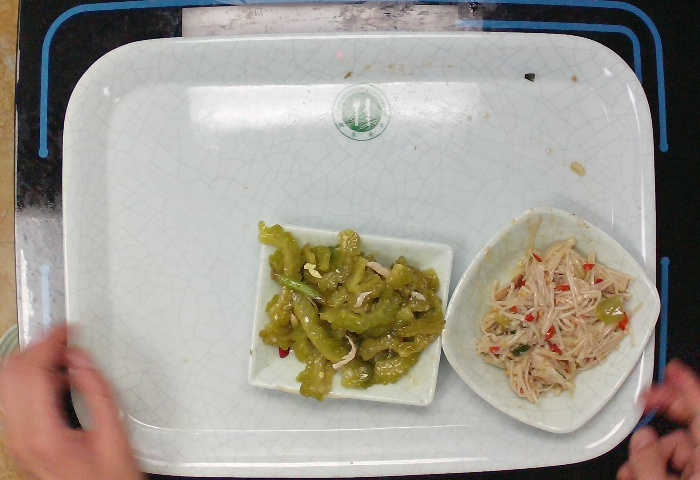WCQzf-Da_Si_Fang_Die: (439, 201, 667, 436)
WCQzf-Ru_Ci_Si_Fang_Die: (249, 219, 457, 409)
